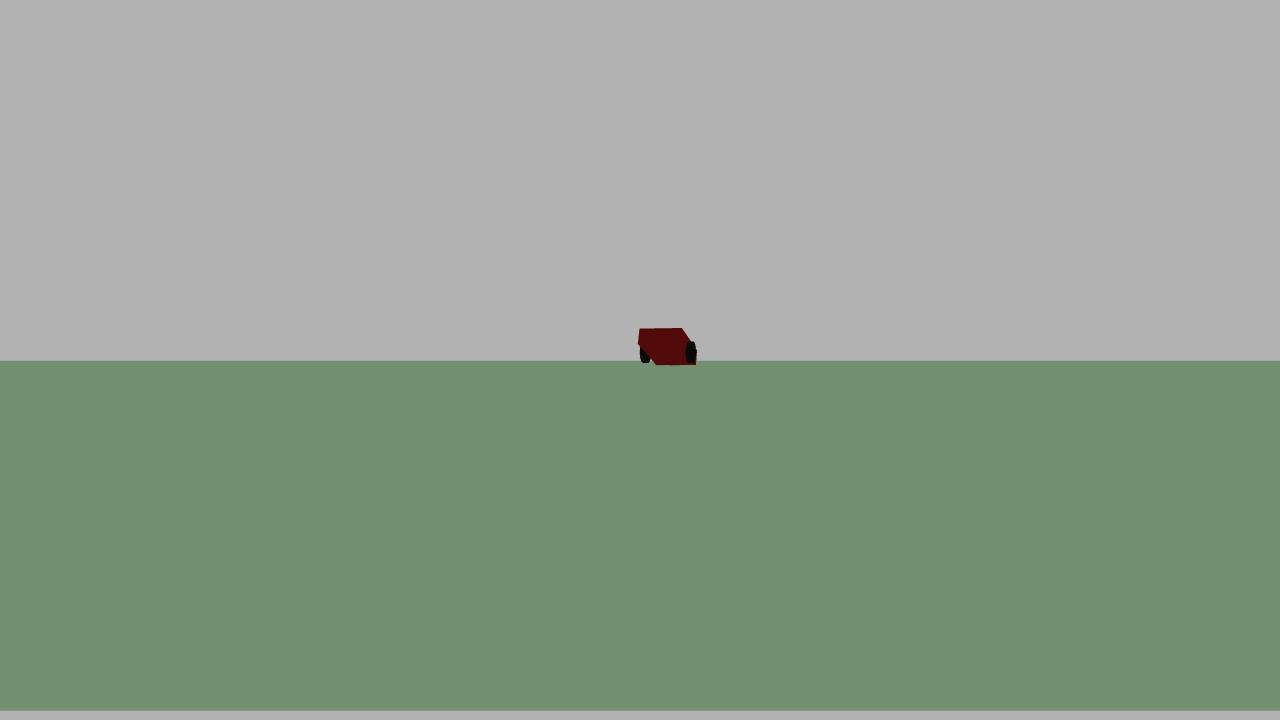ground_vehicle: (625, 303, 715, 378)
